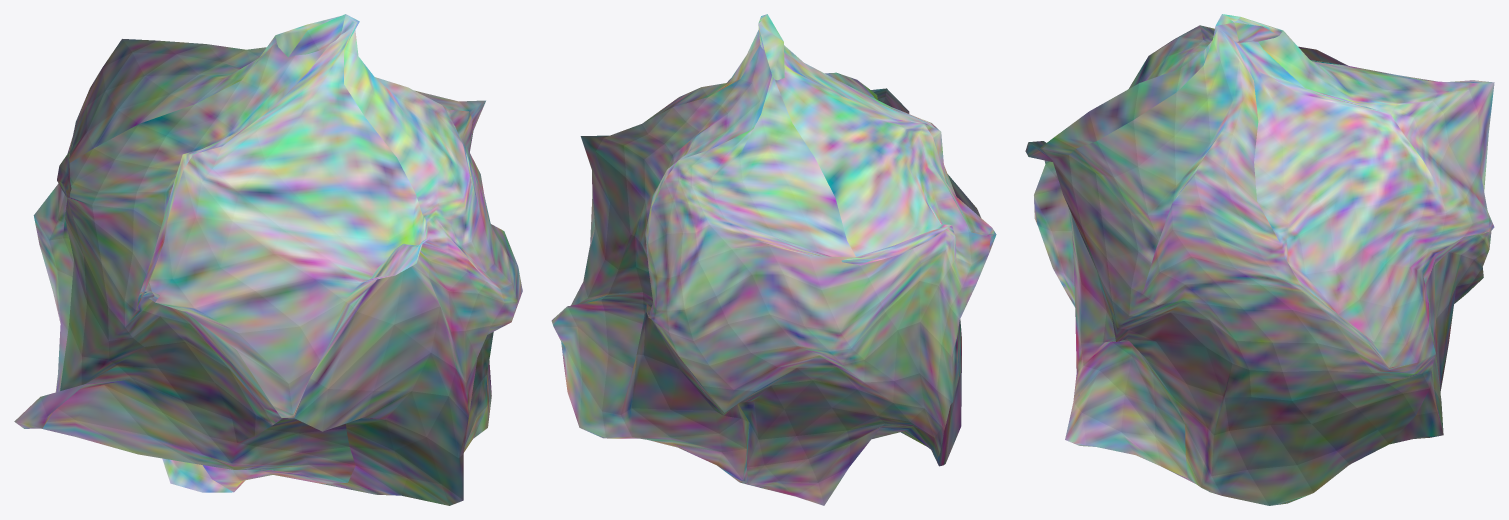
The picture shows the model from 3 angles, left to right: view 1: azimuth 30°, elevation 25°; view 2: azimuth 150°, elevation 25°; view 3: azimuth 270°, elevation 25°; orthographic projection. The views are drawn at different scales.
Visible parts, largest first — view 1: pMesh1; view 2: pMesh1; view 3: pMesh1.
Part boxes in pixels (x1,y1,x2,y2): pMesh1: (14, 14, 522, 505); pMesh1: (551, 14, 996, 505); pMesh1: (1025, 14, 1494, 505).
Bounding box in the file's own units: 2.06 × 2.17 × 2.01.
1 material, 1 textured.
